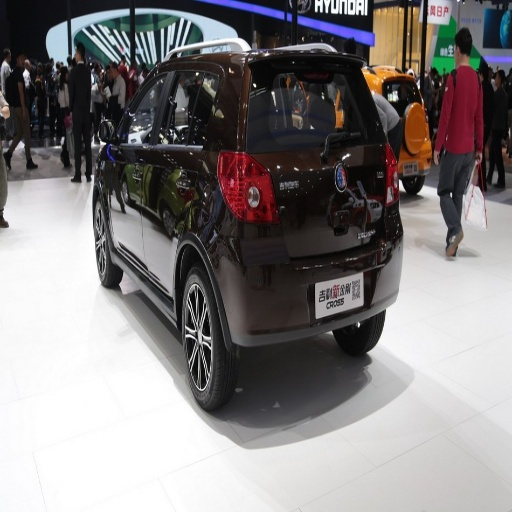back_bumper: (232, 217, 399, 342)
back_left_light: (217, 154, 272, 224)
back_right_door: (112, 127, 140, 252)
trunk: (249, 146, 385, 286), (154, 149, 205, 206)
